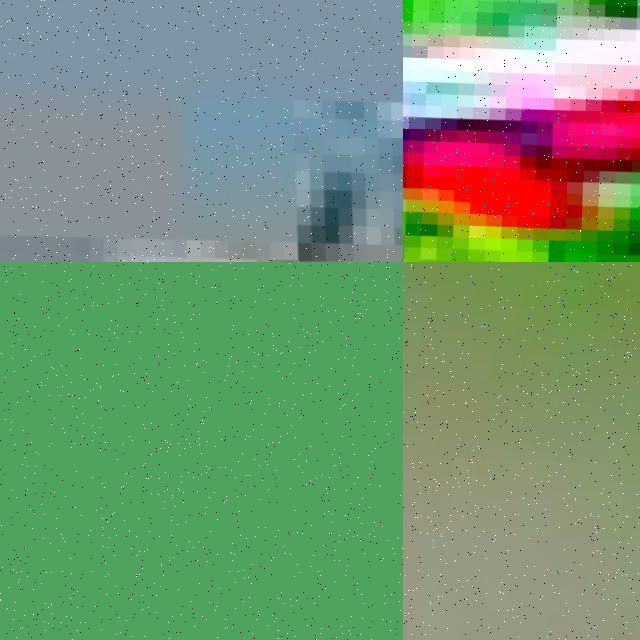drone: (0, 0, 403, 262)
